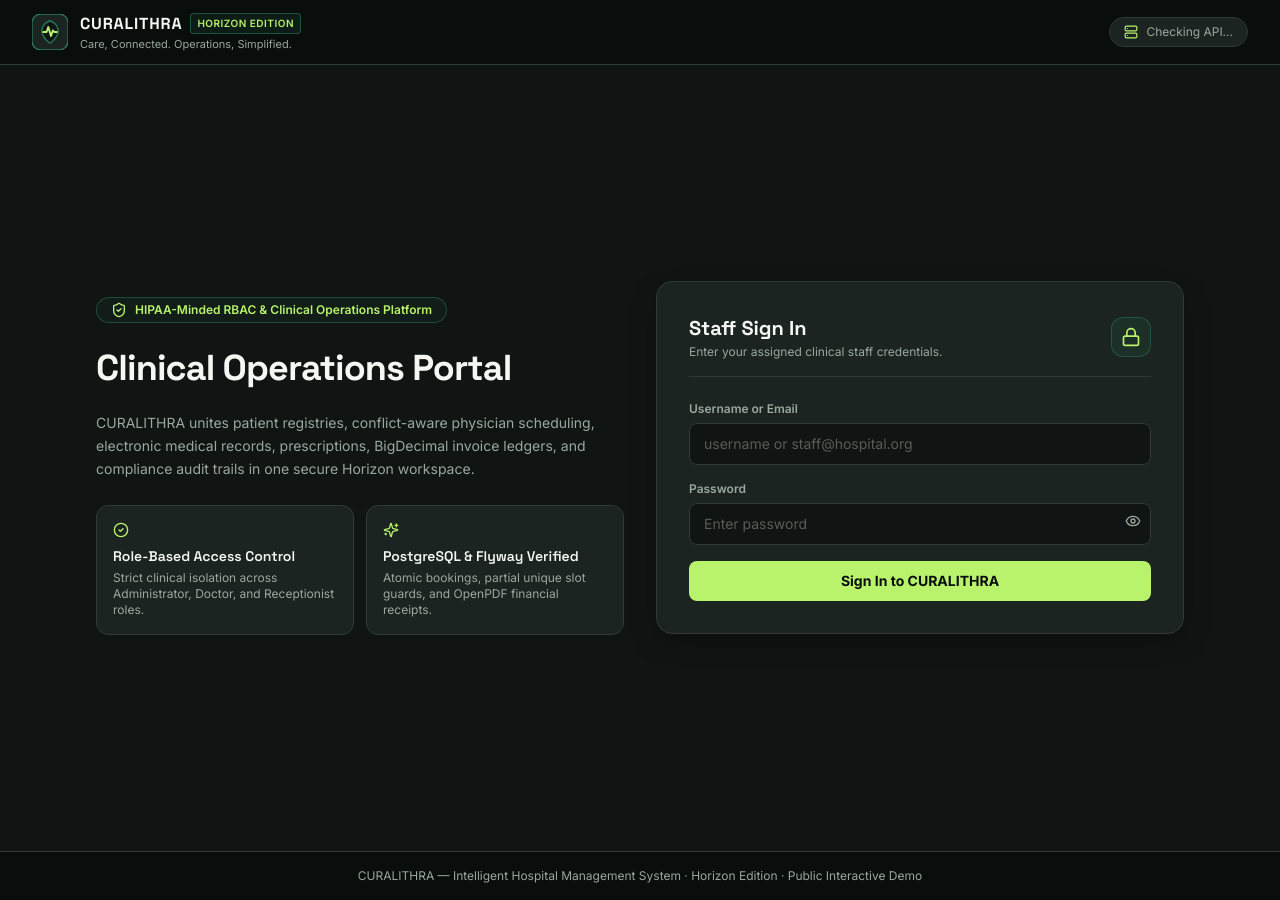
Test: Public Interactive Demo & Authentication Modes › renders Staff Sign In ONLY when public demo is explicitly disabled and handles 401 errors
Expected: the heading "Staff Sign In" is shown, top-left (689, 315), bottom-right (807, 341)
Step 1. Type "admin" into the field labelled "Username or Email" → (920, 444), box top-left (689, 423), bottom-right (1151, 465)
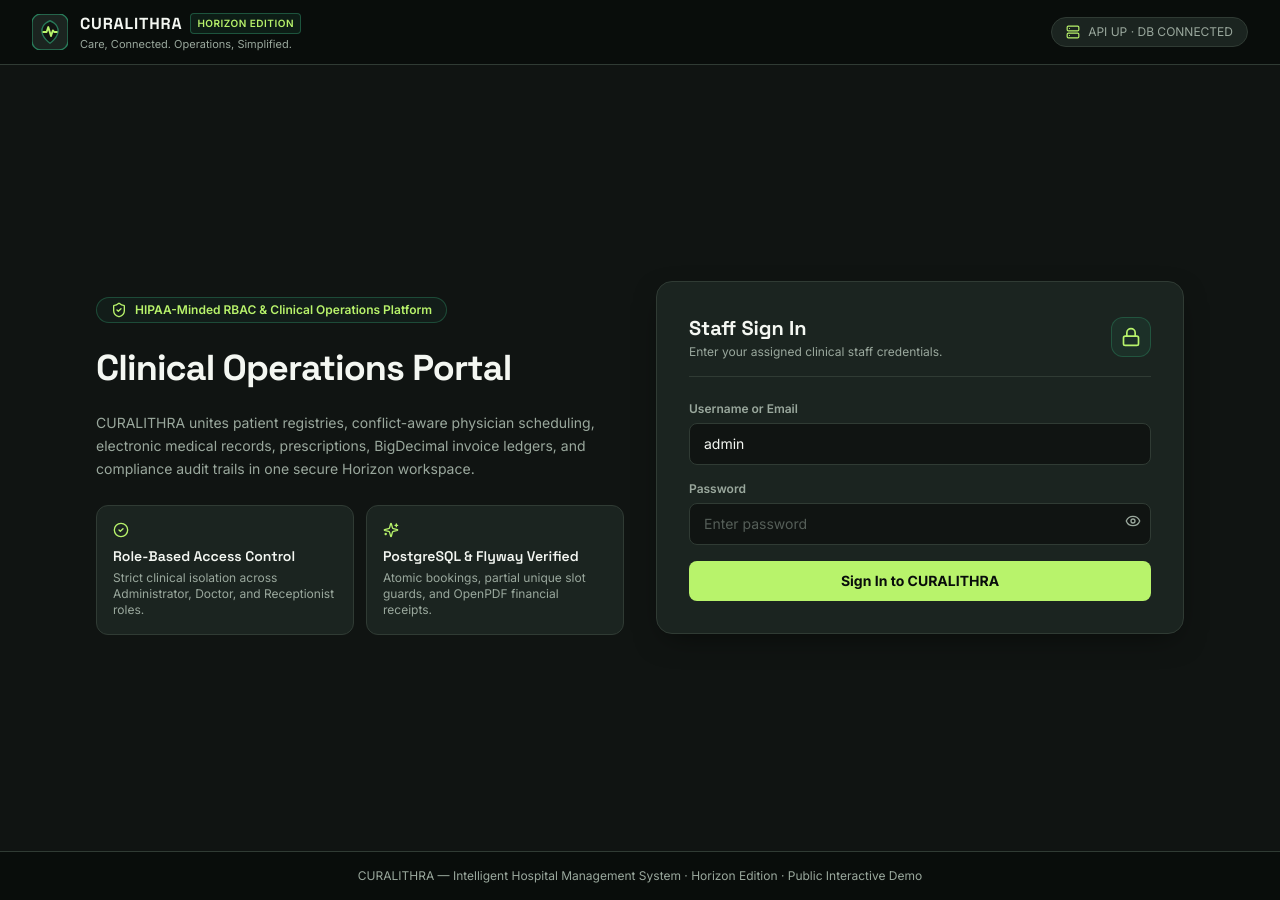
Step 2. Type "wrongpass" into the password field labelled "Password" → (920, 524), box top-left (689, 503), bottom-right (1151, 545)
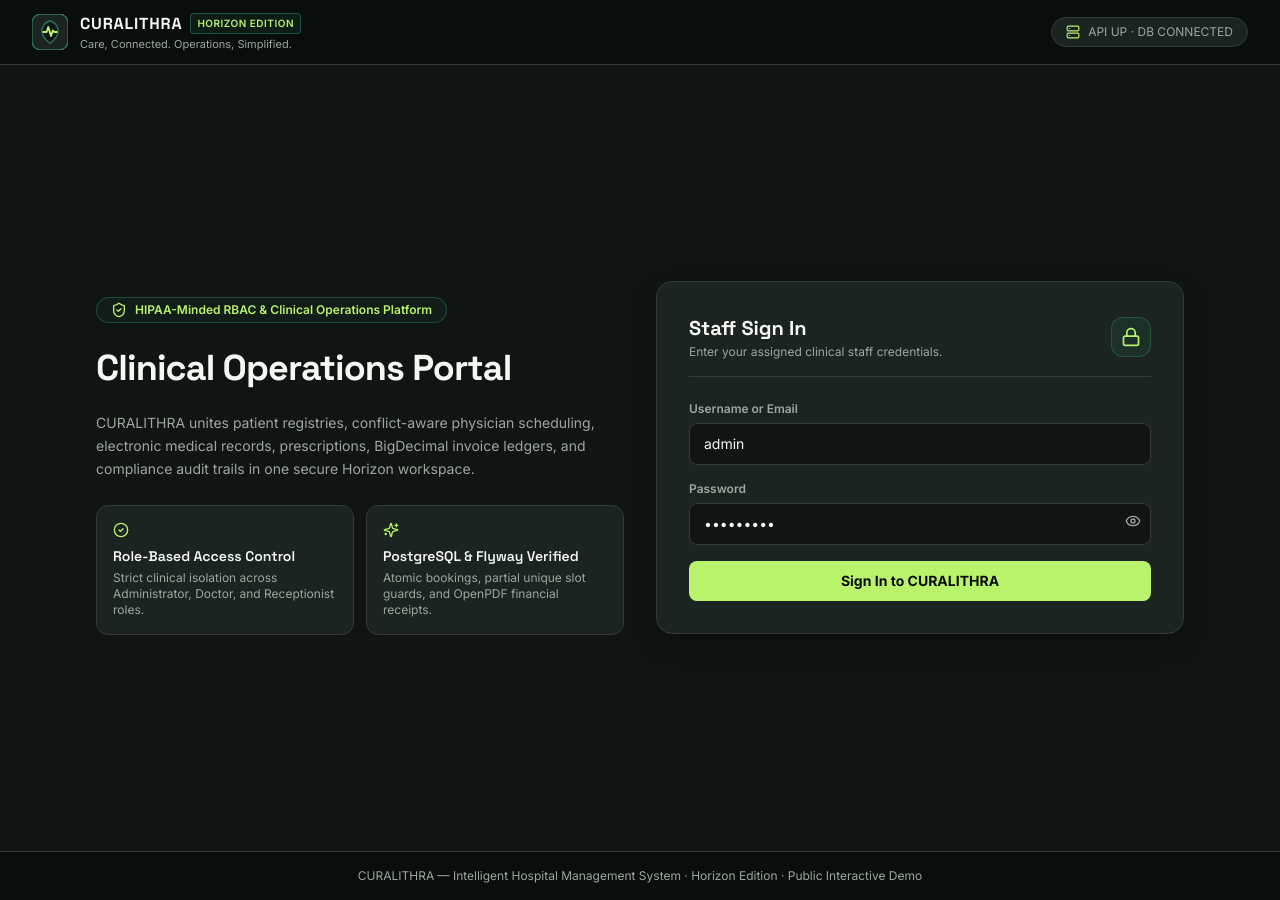
Step 3. Click the button "Sign In to CURALITHRA" → (920, 581), box top-left (689, 561), bottom-right (1151, 601)
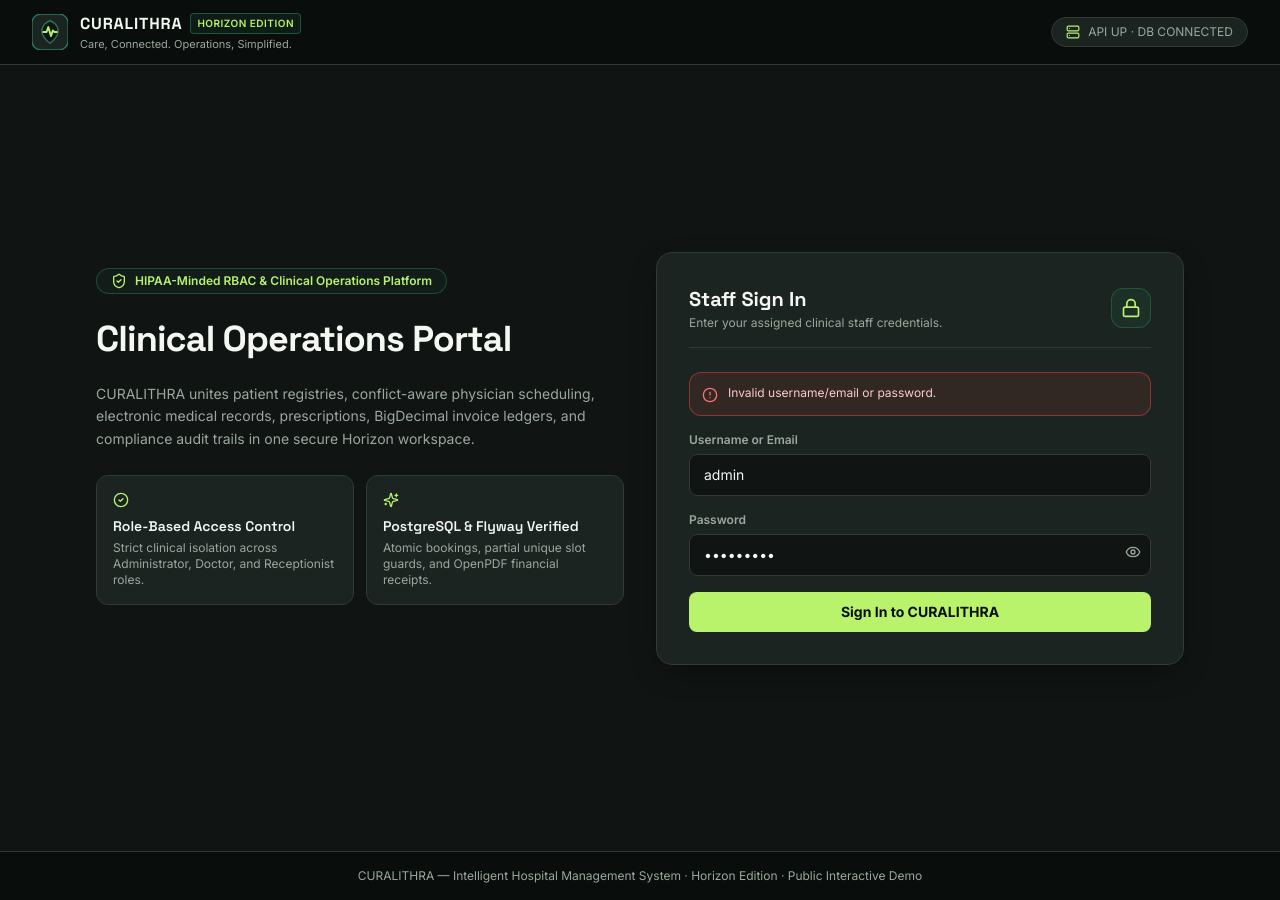
Now the message reads "Invalid username/email or password.", box top-left (728, 384), bottom-right (936, 400)
Step 4. Type "correctpass" into the password field labelled "Password" → (920, 554), box top-left (689, 534), bottom-right (1151, 576)
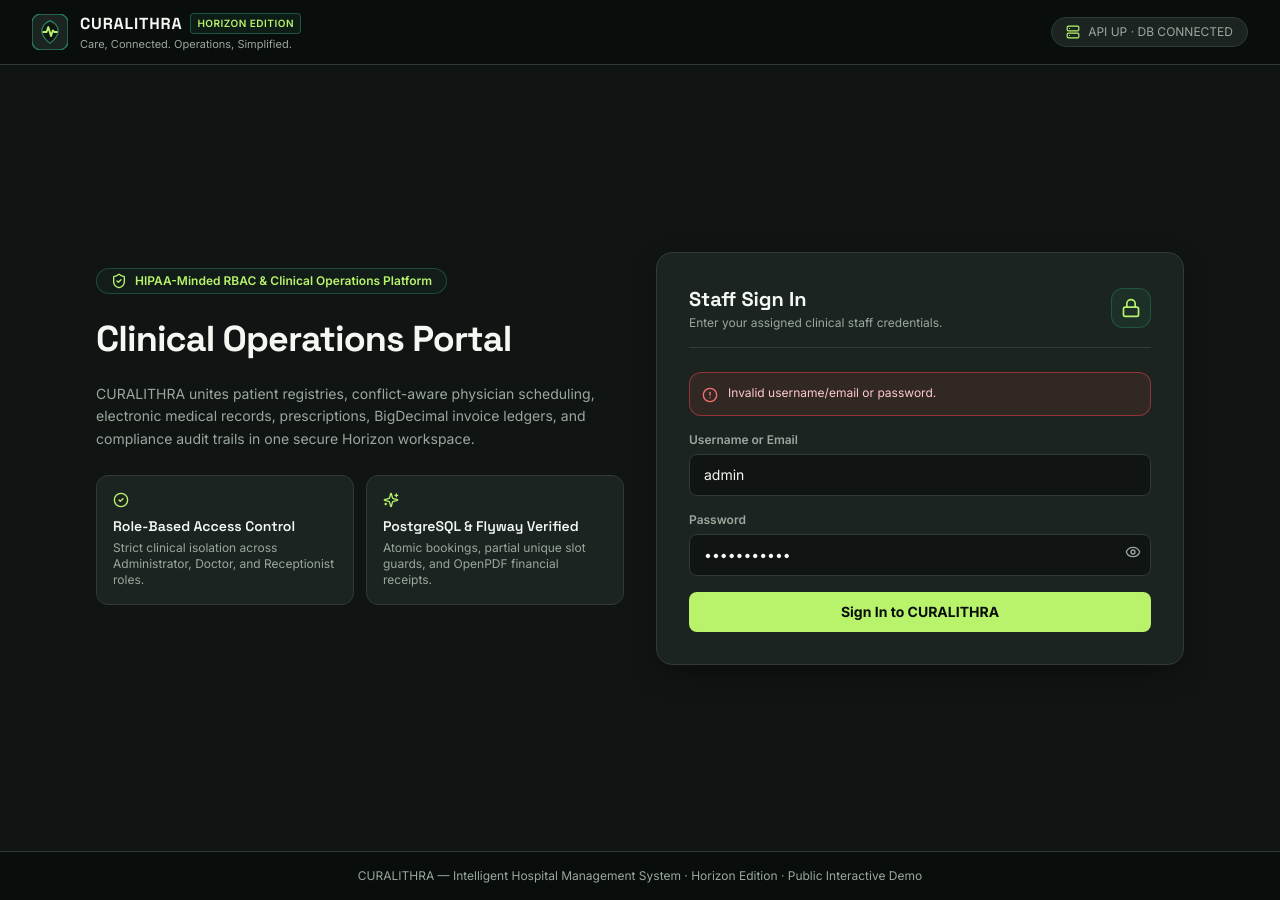
Step 5. Click the button "Sign In to CURALITHRA" → (920, 612), box top-left (689, 592), bottom-right (1151, 632)
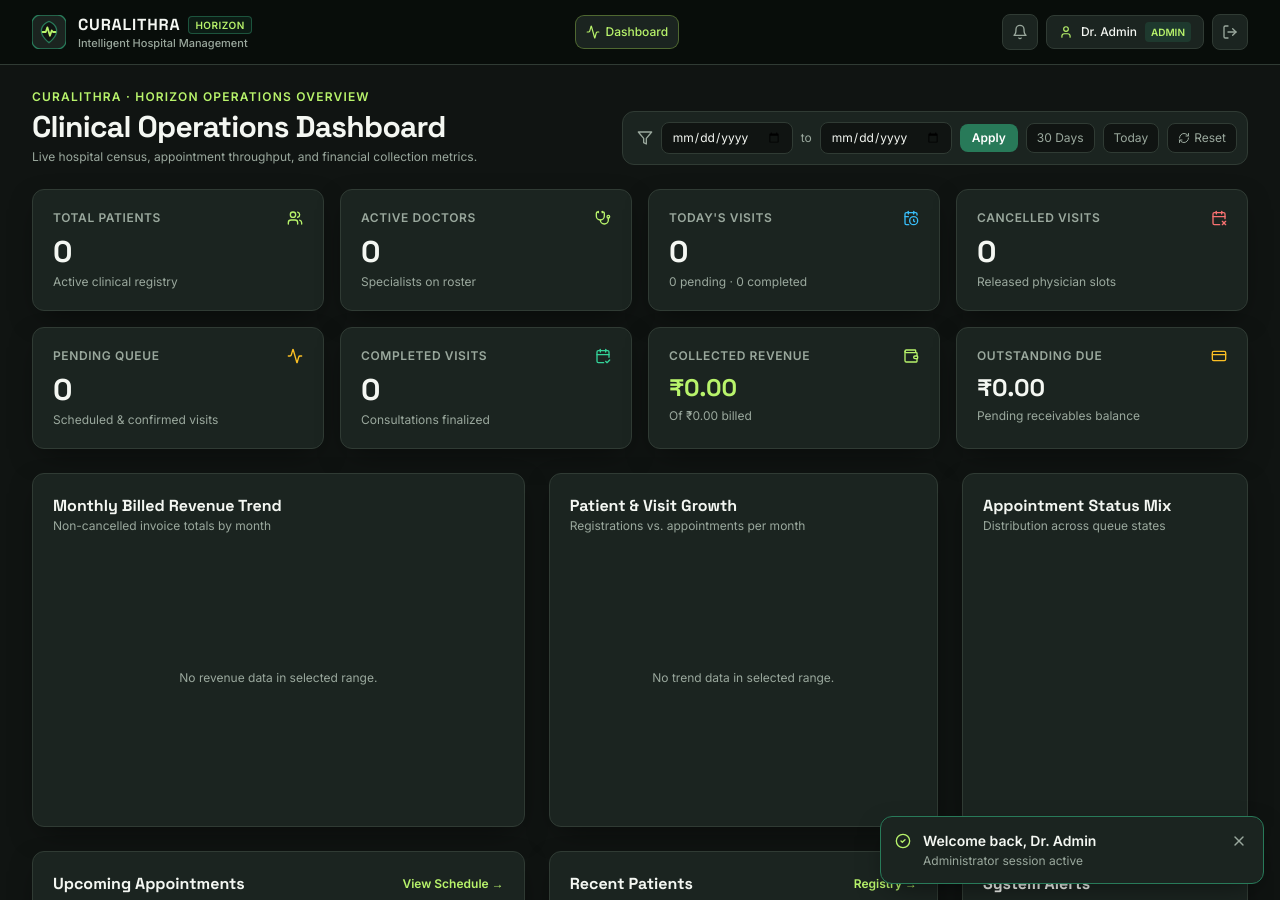
Now the heading "Clinical Operations Dashboard" is shown, box top-left (32, 109), bottom-right (477, 145)
